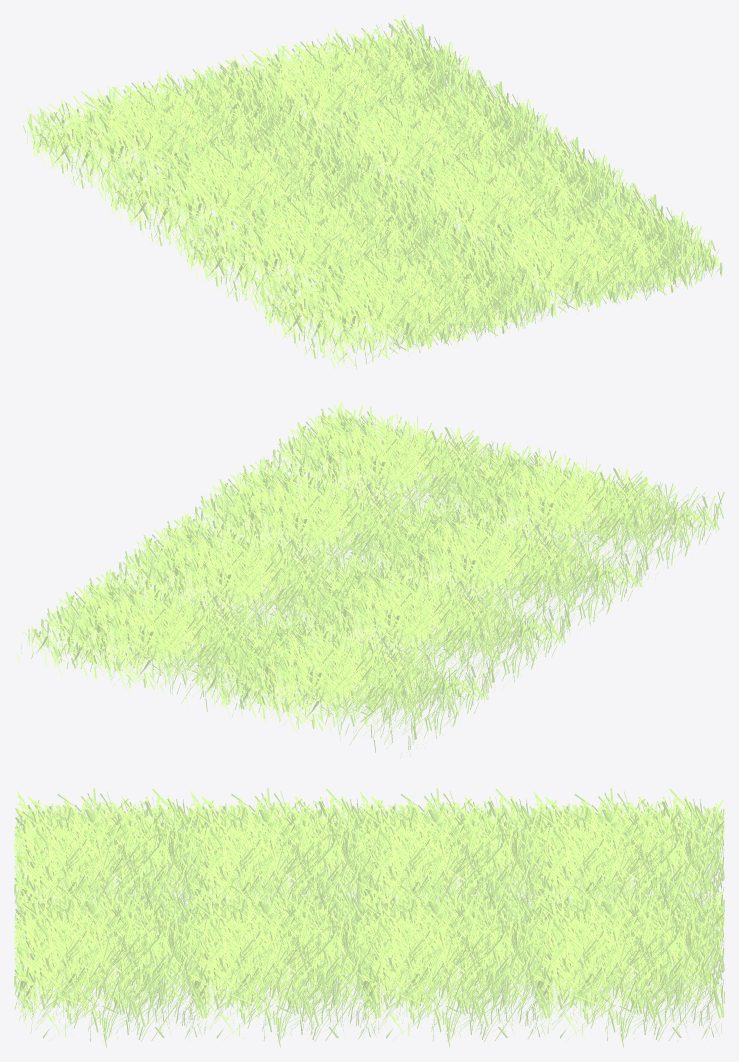
The model's file is grass-block.glb.
The picture shows the model from 3 angles, top to bottom: view 1: azimuth 30°, elevation 25°; view 2: azimuth 150°, elevation 25°; view 3: azimuth 270°, elevation 25°; orthographic projection. The views are drawn at different scales.
Parts seen in each view (by area): view 1: weed14_inst_6, weed14_inst_5, weed14_inst_4, weed14_inst_7, weed14_inst_3, weed14, weed14_inst_8, weed14_inst_2; view 2: weed14_inst_4, weed14_inst_6, weed14, weed14_inst_3, weed14_inst_7, weed14_inst_5, weed14_inst_2, weed14_inst_8; view 3: weed14, weed14_inst_5, weed14_inst_2, weed14_inst_8, weed14_inst_4, weed14_inst_6, weed14_inst_3, weed14_inst_7.
Part boxes in pixels (x1,y1,x2,y2): weed14_inst_6: (255, 225, 553, 369); weed14_inst_5: (424, 184, 722, 327); weed14_inst_4: (23, 55, 315, 198); weed14_inst_7: (177, 168, 469, 311); weed14_inst_3: (101, 113, 395, 255); weed14: (192, 14, 488, 153); weed14_inst_8: (346, 127, 642, 266); weed14_inst_2: (270, 71, 567, 205); weed14_inst_4: (185, 612, 492, 757); weed14_inst_6: (423, 442, 724, 588); weed14: (16, 571, 324, 717); weed14_inst_3: (269, 555, 570, 701); weed14_inst_7: (345, 499, 646, 645); weed14_inst_5: (255, 401, 556, 537); weed14_inst_2: (97, 514, 402, 650); weed14_inst_8: (171, 458, 478, 594); weed14: (531, 880, 724, 1047); weed14_inst_5: (14, 880, 207, 1047); weed14_inst_2: (357, 880, 550, 1047); weed14_inst_8: (188, 880, 381, 1047); weed14_inst_4: (531, 788, 724, 943); weed14_inst_6: (14, 788, 207, 945); weed14_inst_3: (357, 788, 550, 950); weed14_inst_7: (188, 788, 381, 950).
Bounding box in the file's own units: 66.78 × 6.01 × 91.86.
